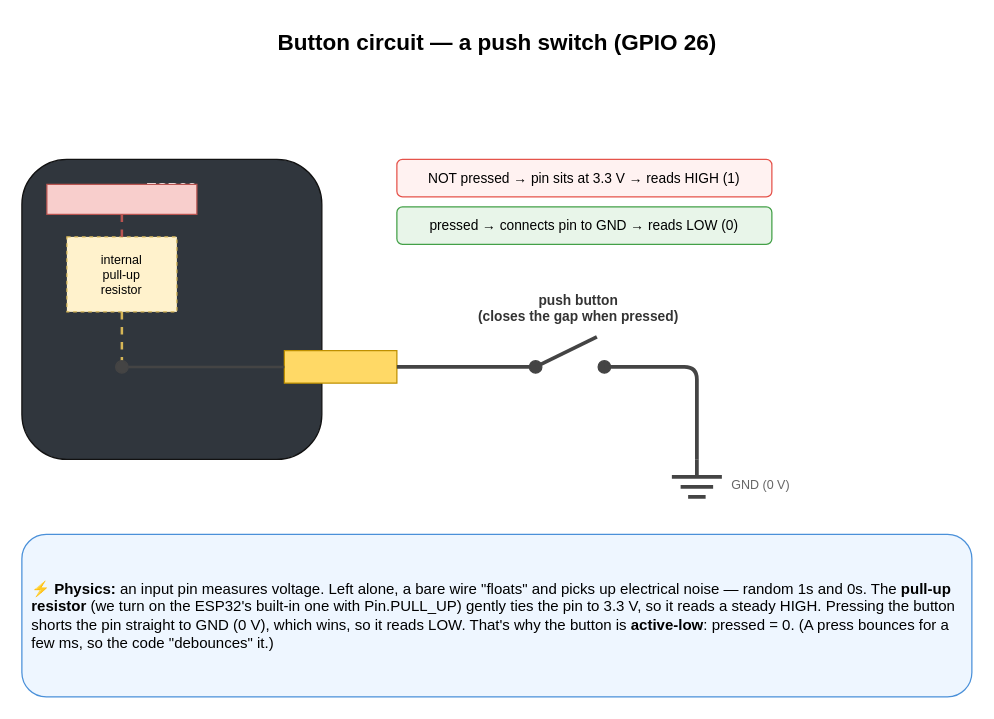
Image size: 994x719. Some labels were removed from this diagram. Each missing label, with the centre of its shape:
"3.3 V (inside)" belongs at point (121, 198).
"GPIO 26 (input)" belongs at point (340, 366).
